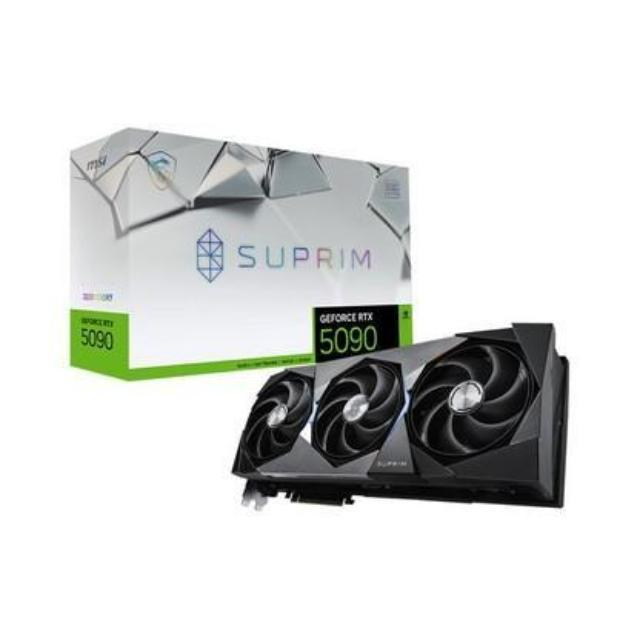GPU: (230, 314, 575, 526)
